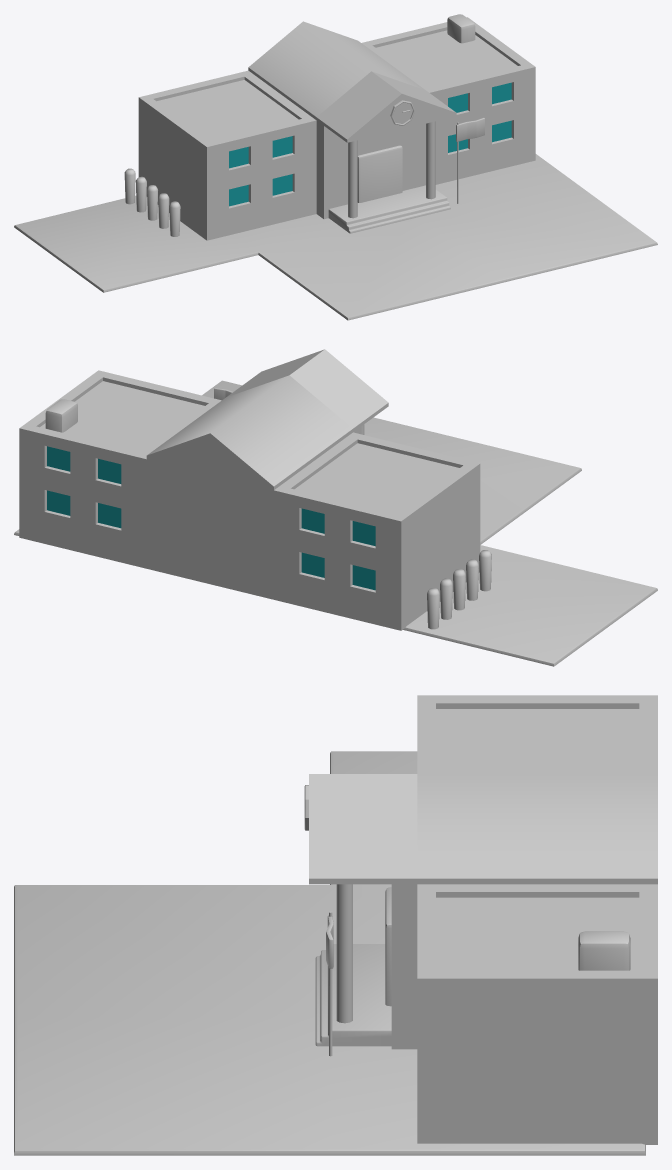
The model's file is ayuntamiento.fbx.
3 renders of one model, top to bottom at view 1: azimuth 30°, elevation 25°; view 2: azimuth 150°, elevation 25°; view 3: azimuth 270°, elevation 25°, orthographic. The views are drawn at different scales.
Parts seen in each view (by area): view 1: bandera, azul; view 2: azul, bandera; view 3: azul, bandera.
Part boxes in pixels (x1=…): bandera: x1=14, y1=14, x2=657, y2=320; azul: x1=138, y1=17, x2=535, y2=240; azul: x1=19, y1=349, x2=480, y2=630; bandera: x1=14, y1=380, x2=657, y2=666; azul: x1=309, y1=695, x2=657, y2=1144; bandera: x1=14, y1=751, x2=645, y2=1155.
Bounding box in the file's own units: 300 × 81.41 × 204.
